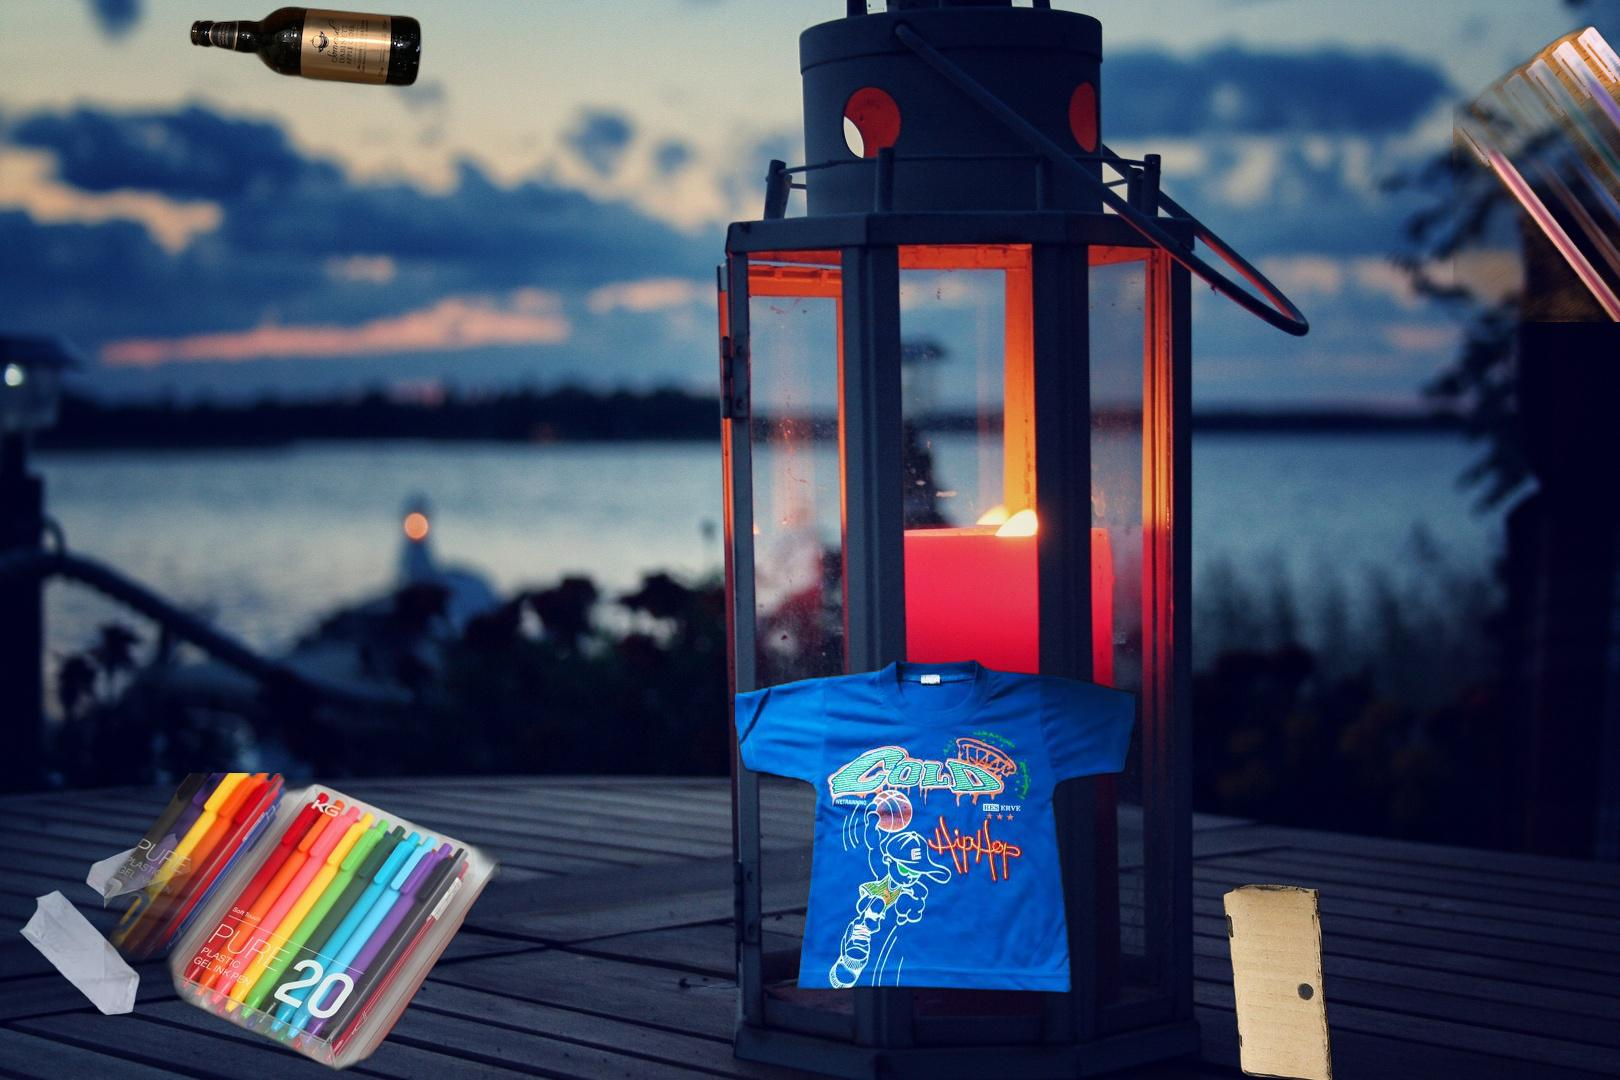clothes: (735, 655, 1135, 998)
glass: (186, 2, 425, 90)
penholder: (104, 773, 503, 1080), (1452, 12, 1620, 322)
plastic-bag: (16, 830, 193, 1016)
trashbox-cardboard: (1219, 881, 1337, 1080)
